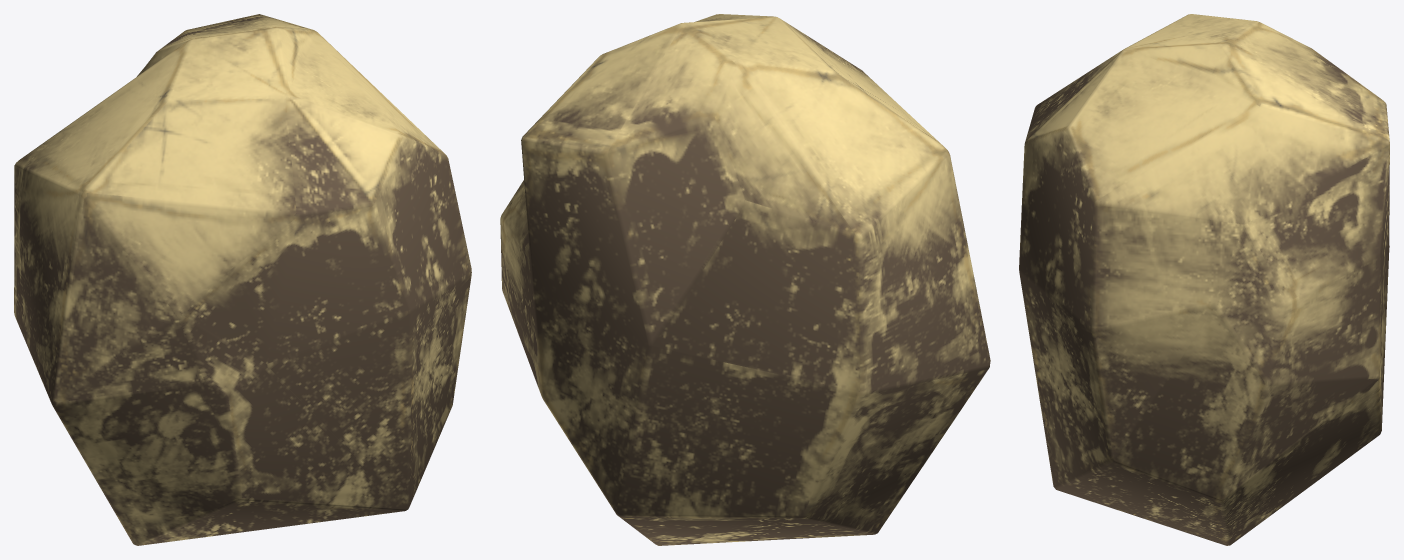
File: GoldenNugget2.fbx
The picture shows the model from 3 angles, left to right: view 1: azimuth 30°, elevation 25°; view 2: azimuth 150°, elevation 25°; view 3: azimuth 270°, elevation 25°; orthographic projection. The views are drawn at different scales.
Parts seen in each view (by area): view 1: nug2.003; view 2: nug2.003; view 3: nug2.003.
Part boxes in pixels (bbox=[...]): nug2.003: bbox=[14, 14, 471, 545]; nug2.003: bbox=[500, 14, 990, 545]; nug2.003: bbox=[1019, 14, 1389, 545].
Size of the model in its own units: 5.88 by 7.29 by 8.55.
